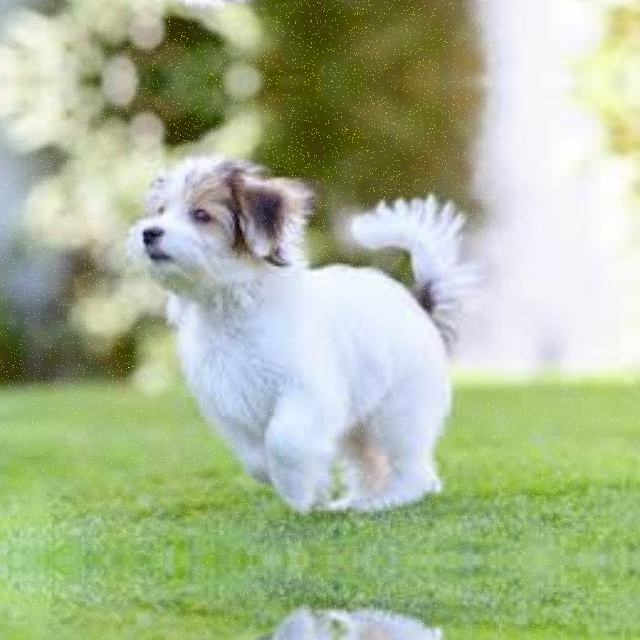dog: (129, 153, 509, 507), (129, 611, 509, 640), (129, 0, 509, 7)
